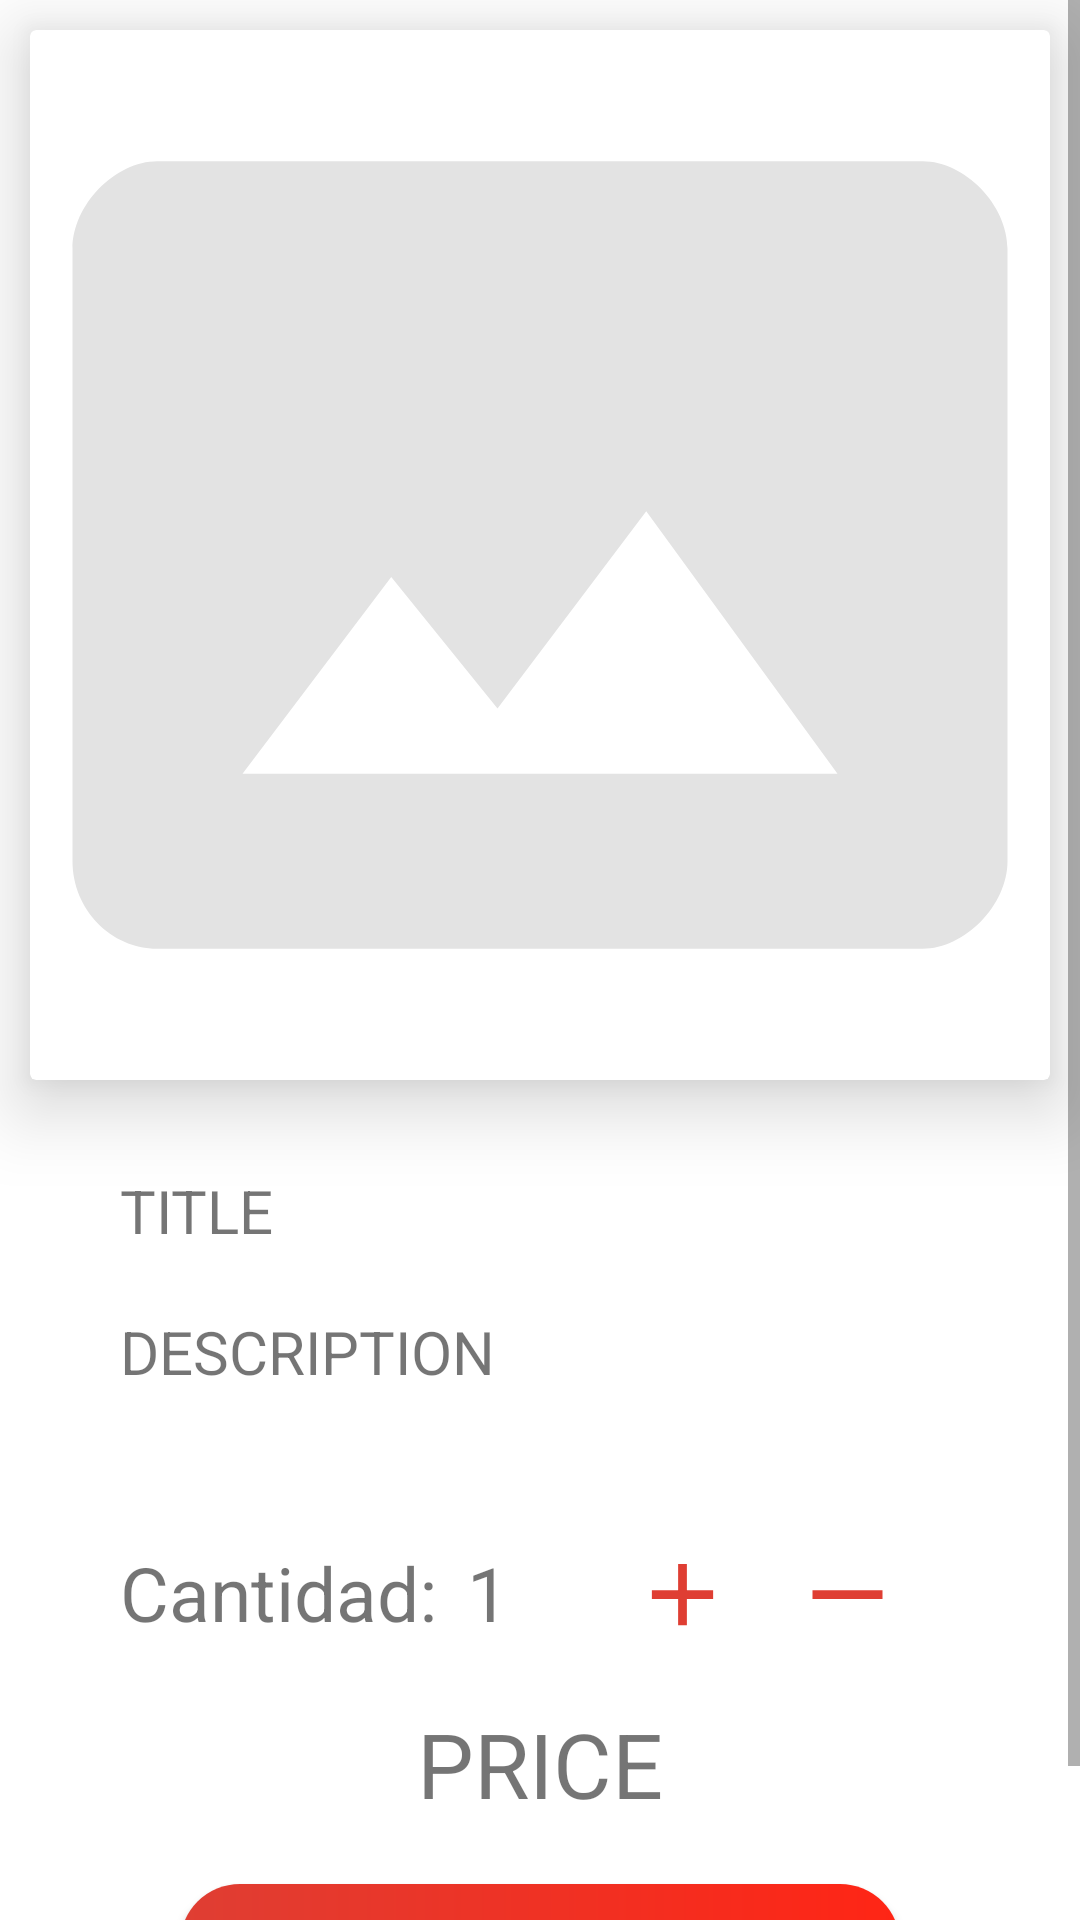

Screen size 1080px×1920px. Icon name, then its box in pixels as BBox(x1, y1, x2, y2):
add: BBox(651, 1564, 714, 1626)
